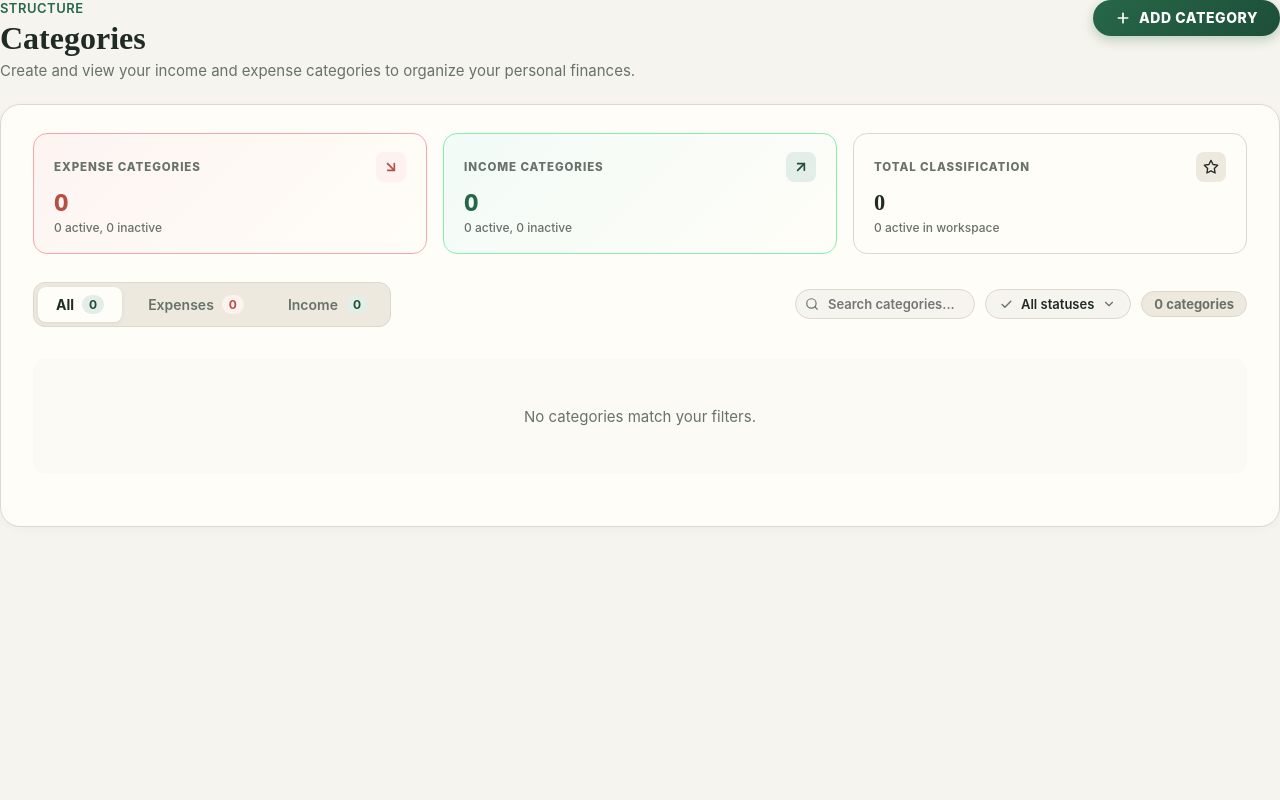
it: CategoriesView › opens modal when Add button is clicked and closes on close button click
Click the button with aria-label "Add new category" at (1186, 18), box [1093,0,1279,36]
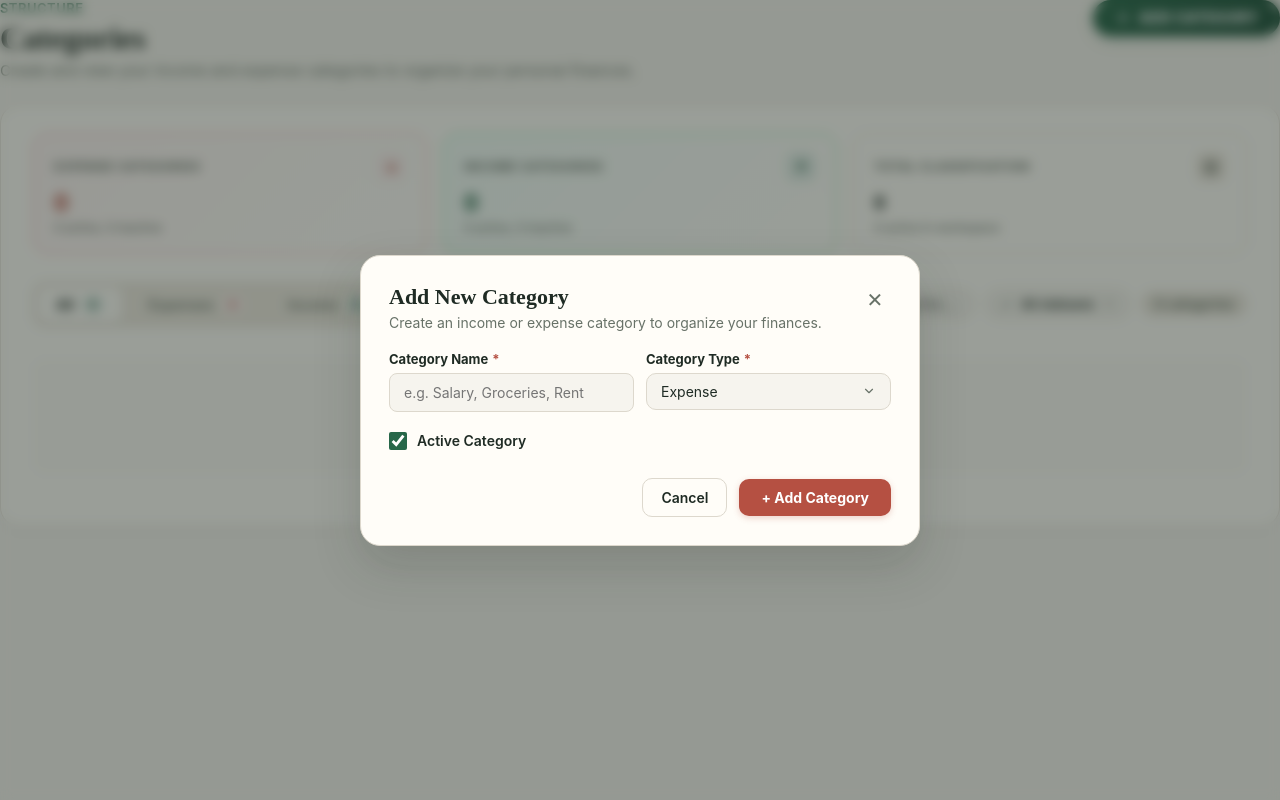
Expected: the dialog with test id "create-category-modal" is shown, [360,254,920,546]
Expected: the heading "Add New Category" is shown, [389,284,569,308]
Click the button named "Close modal" at (875, 300), box [859,284,891,316]
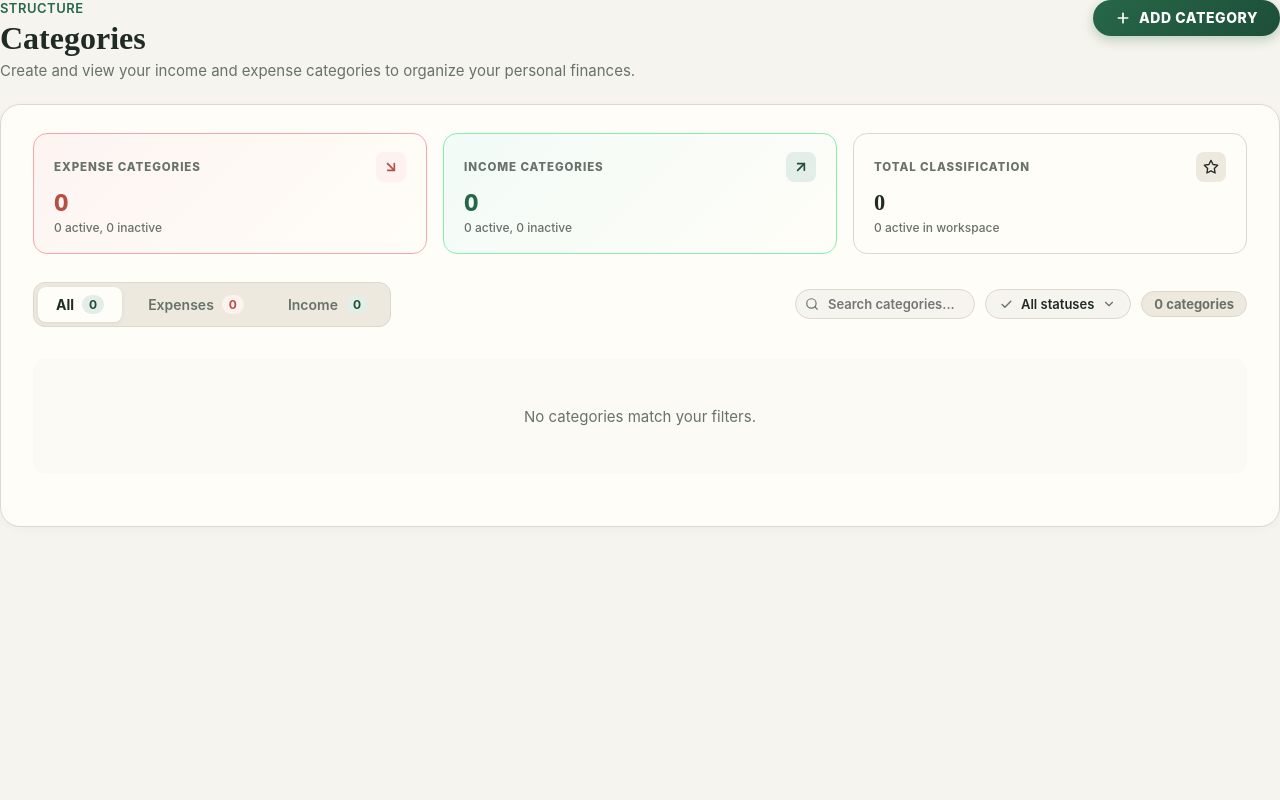
Expected: the dialog with test id "create-category-modal" is gone
